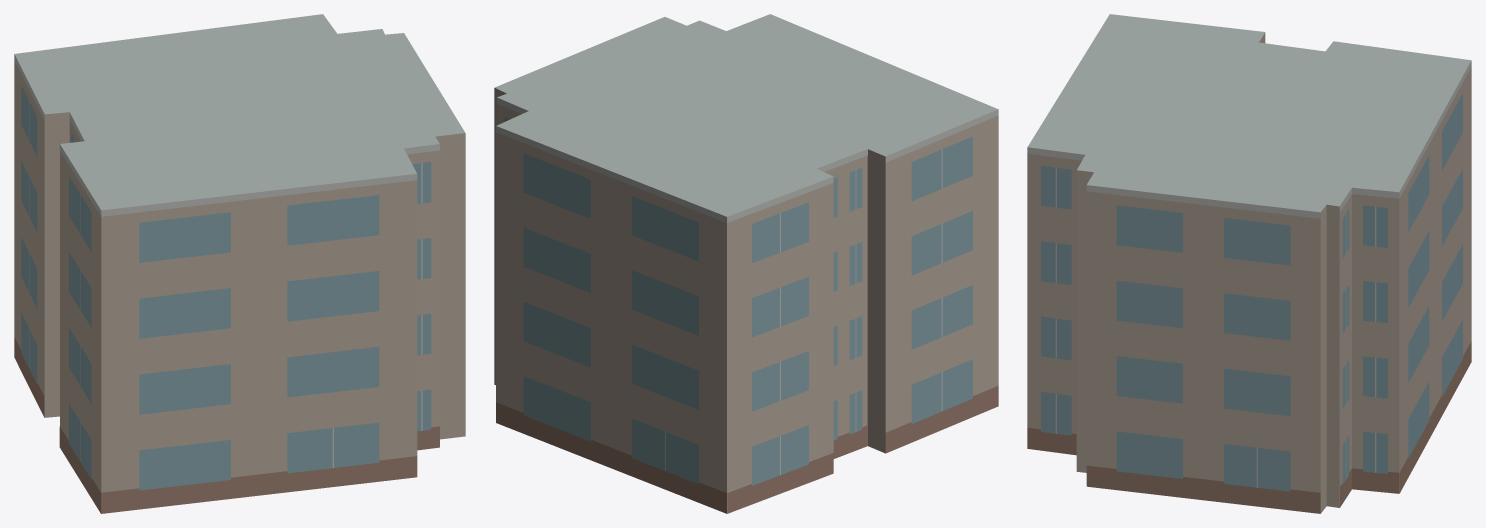
The model's file is survey-upis-32752633.glb.
The picture shows the model from 3 angles, left to right: view 1: azimuth 30°, elevation 25°; view 2: azimuth 150°, elevation 25°; view 3: azimuth 270°, elevation 25°; orthographic projection. The views are drawn at different scales.
Parts seen in each view (by area): view 1: survey-upis-32752633.tmp; view 2: survey-upis-32752633.tmp; view 3: survey-upis-32752633.tmp.
Boxes of the visible parts, x1,y1,x2,y2 form: survey-upis-32752633.tmp: [14, 14, 465, 513]; survey-upis-32752633.tmp: [494, 14, 998, 513]; survey-upis-32752633.tmp: [1027, 14, 1471, 513].
Size of the model in its own units: 16.37 by 11.6 by 15.49.
